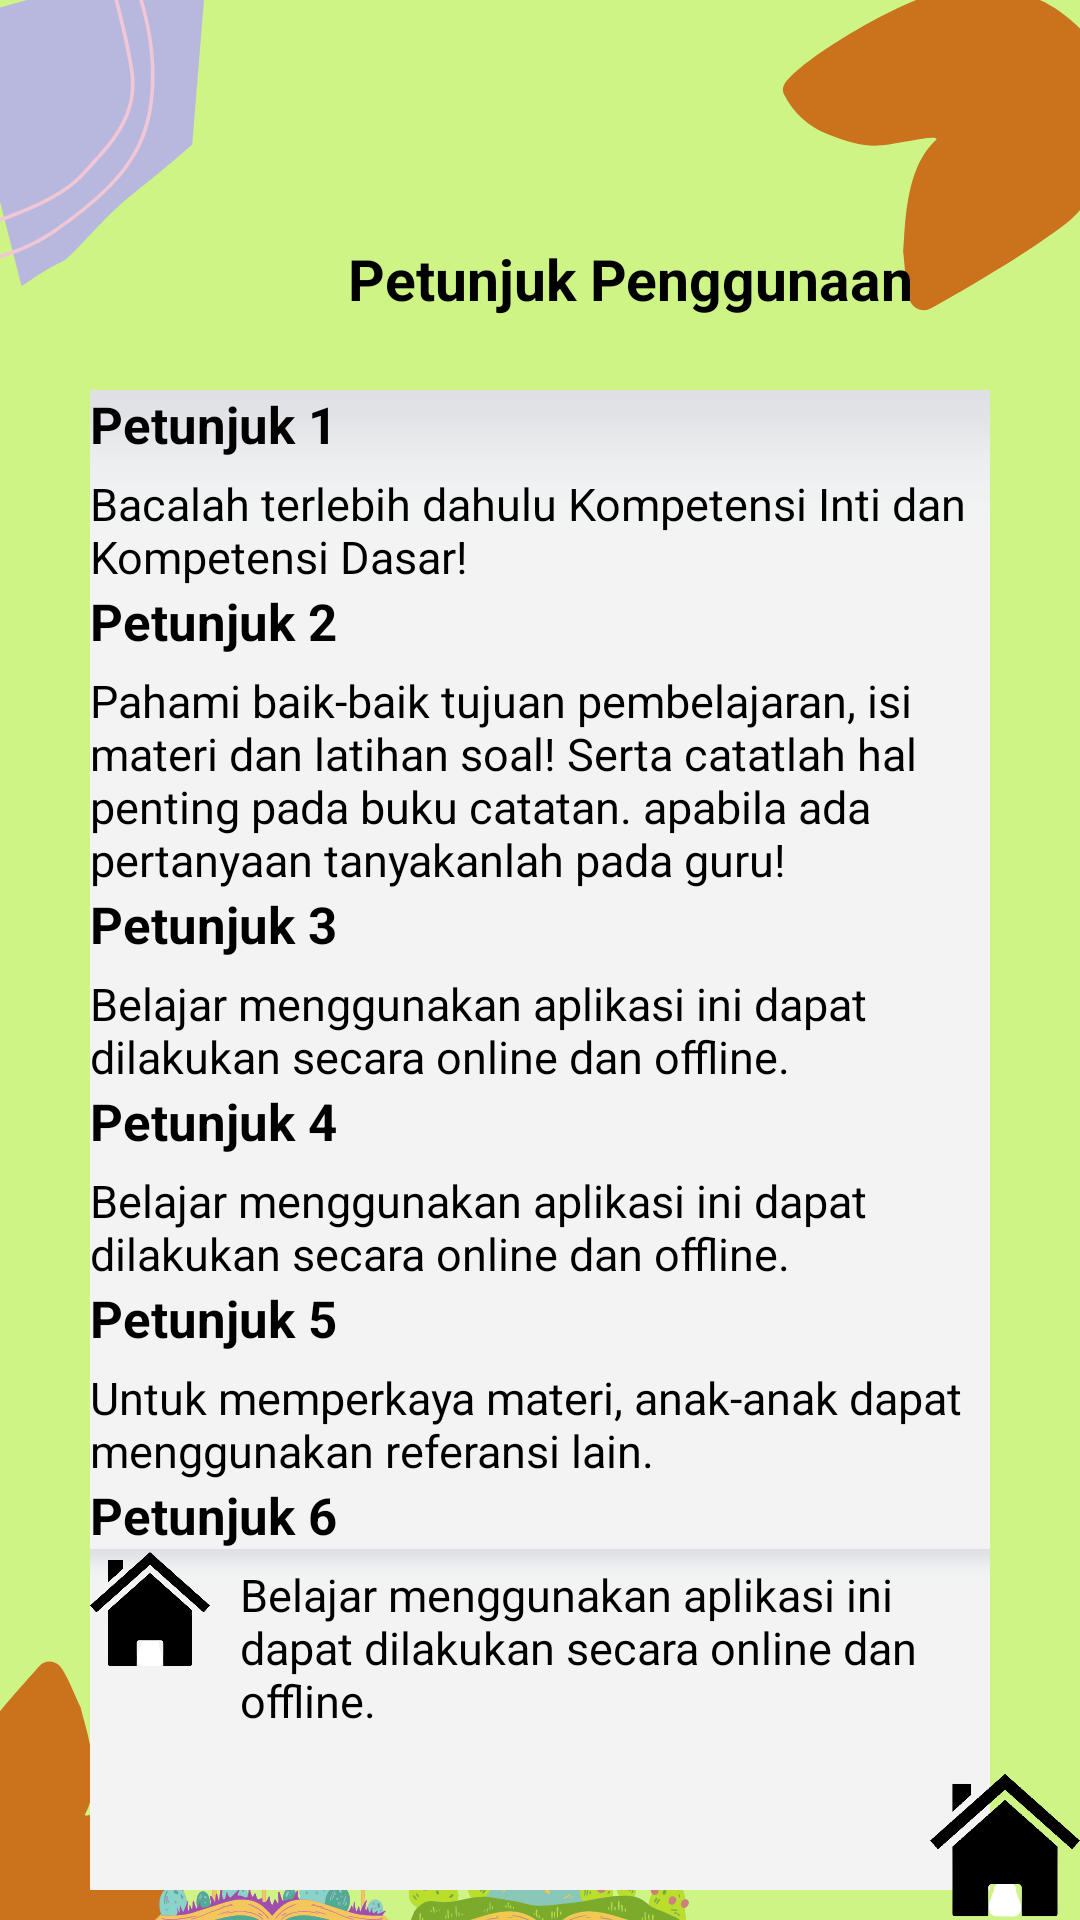

Icons on this 1080px×1920px Android screen, each with the point to tap as (x,y):
rumah: (150,1613), (1005,1845)
